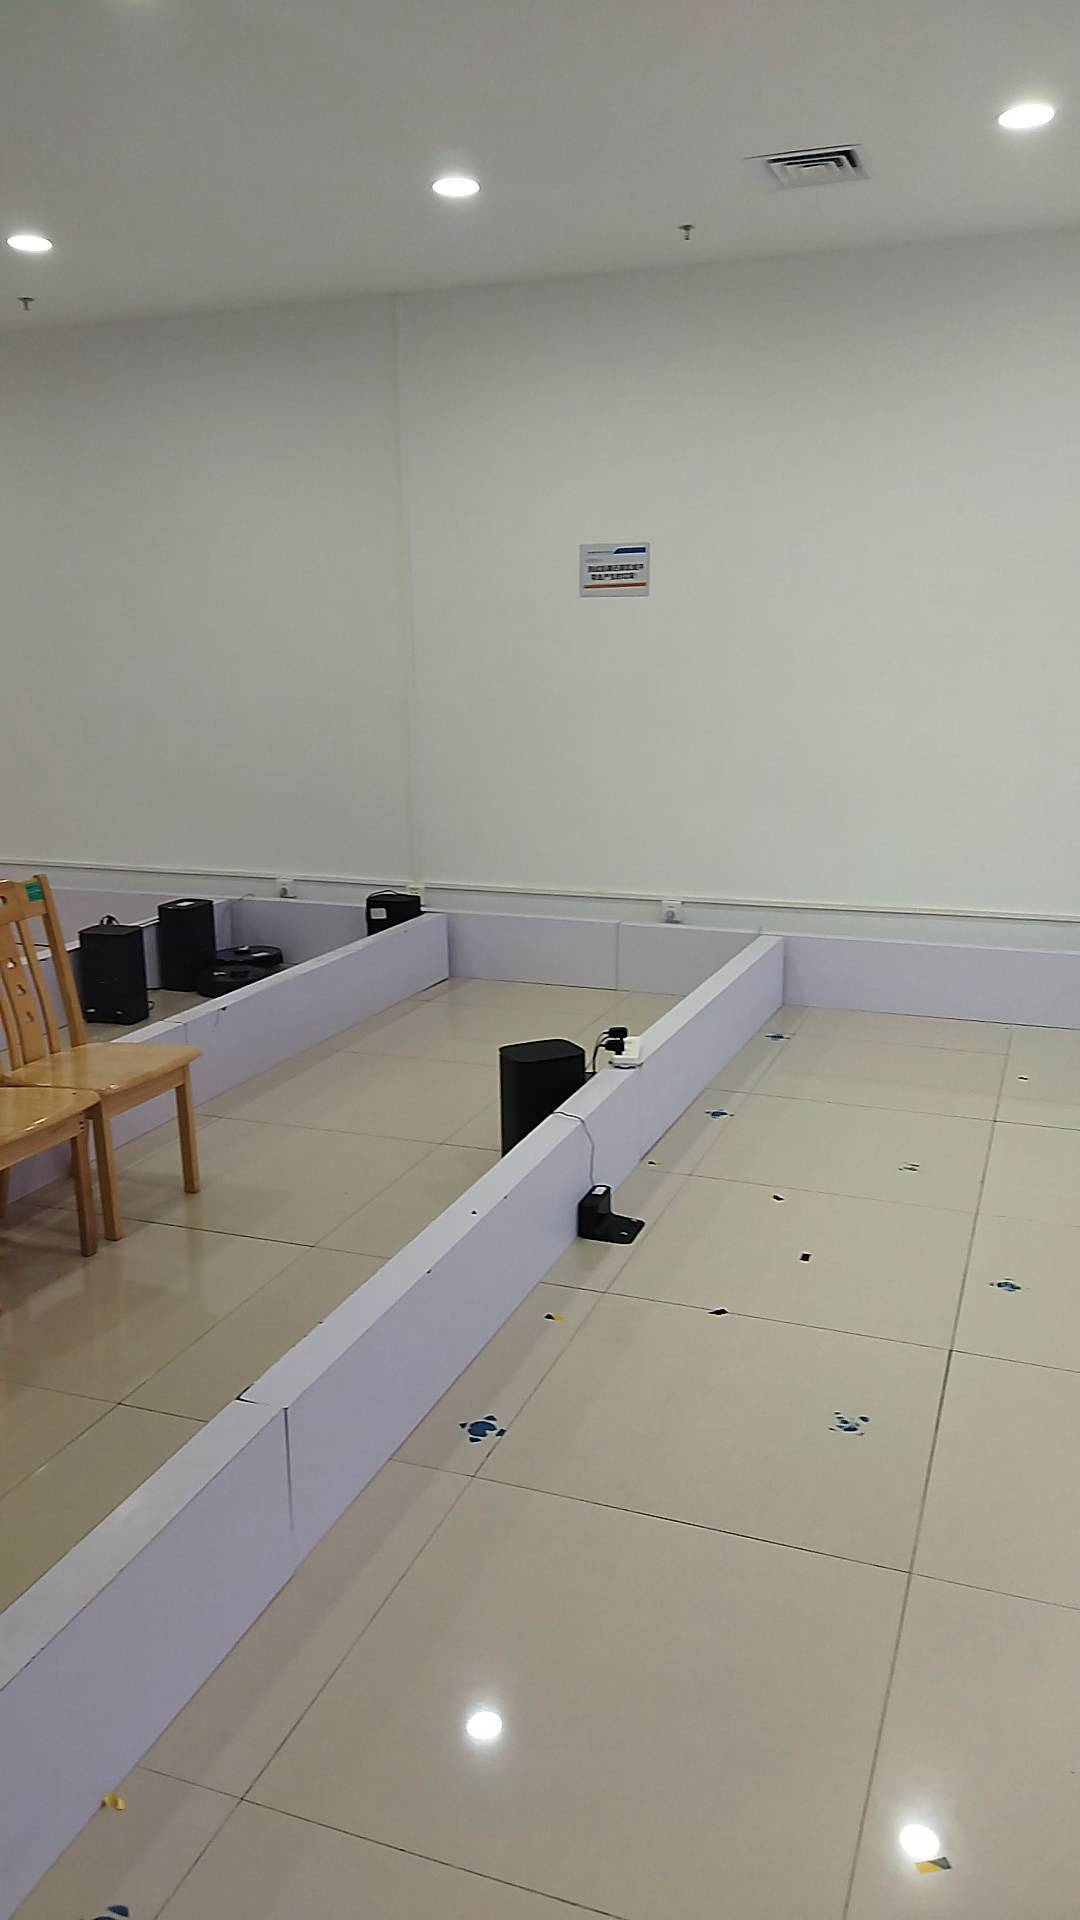dust collecting barrel: (498, 1036, 582, 1153), (80, 920, 150, 1022), (160, 897, 214, 988)
recharge seat: (578, 1185, 651, 1245)
